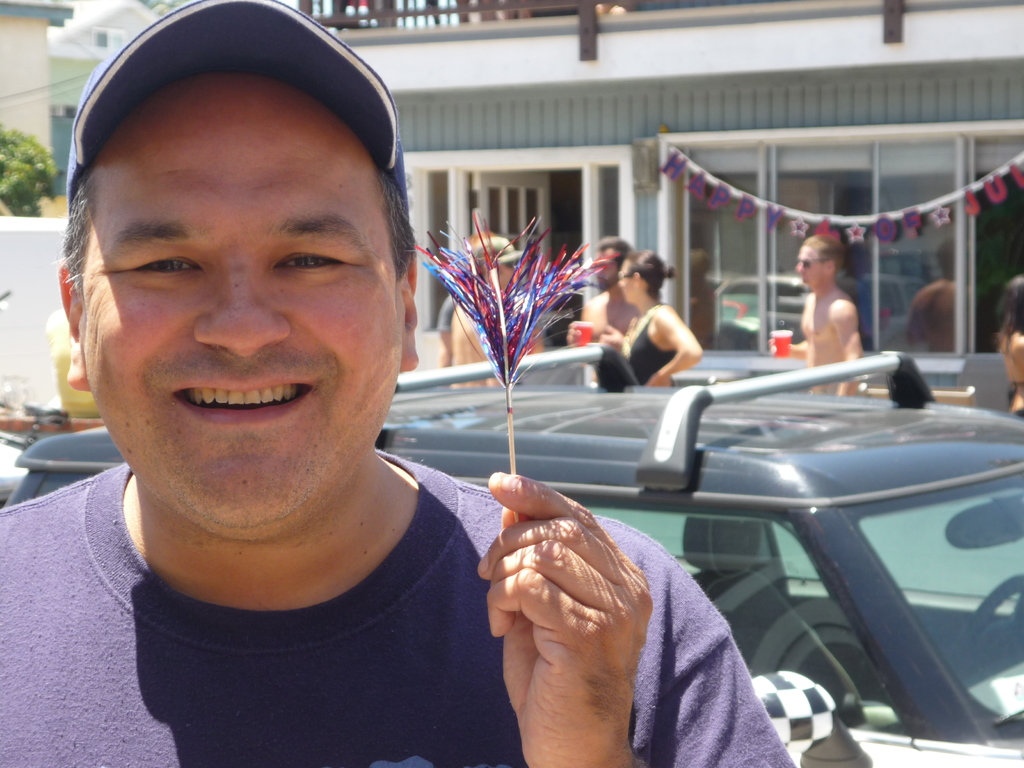Car: (13, 348, 1023, 767), (0, 437, 23, 515)
